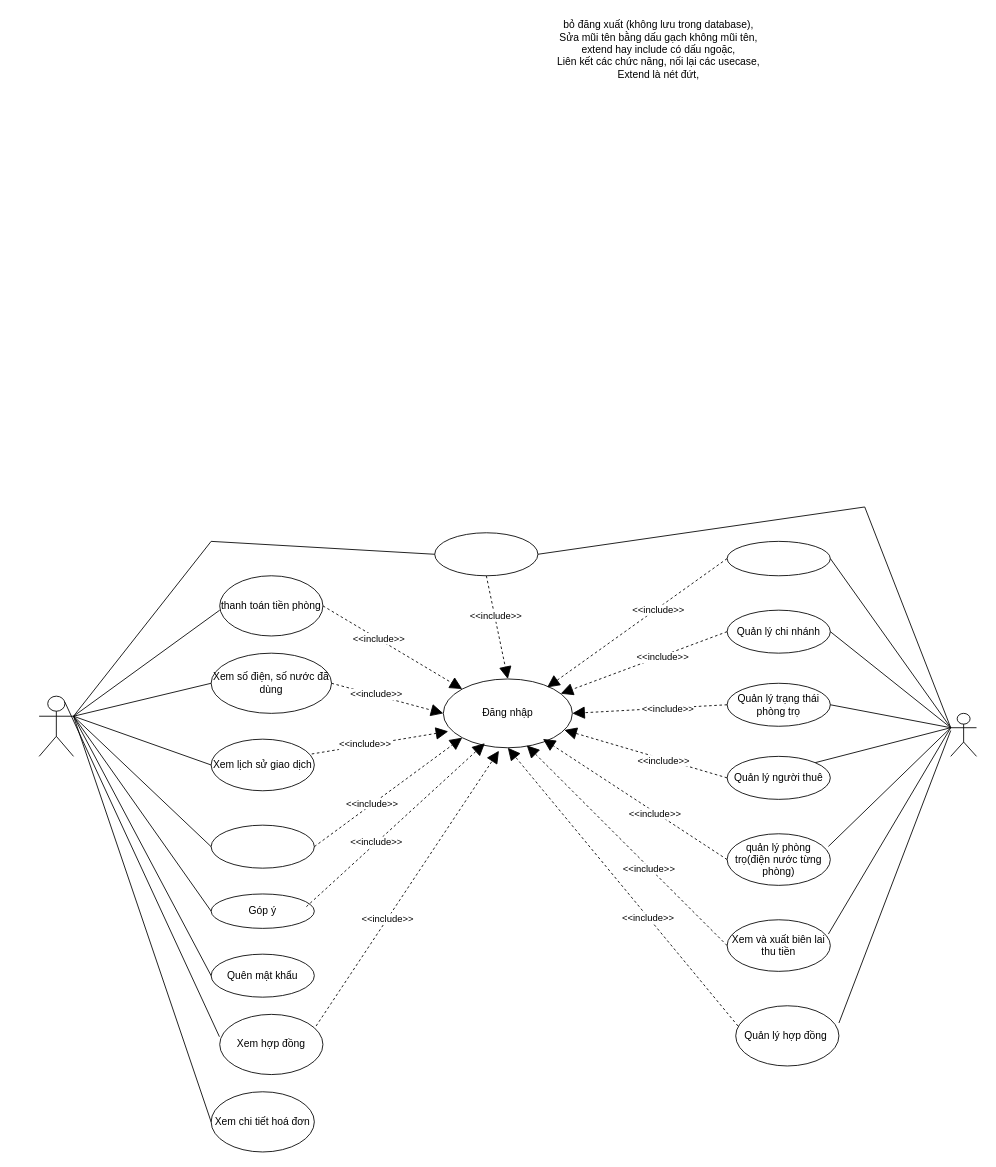
The diagram is 996 pixels wide and 1167 high, and some of its shapes have lost their labels. Here are the shapes that lost their labels. From the top down, the centre of each, then its label:
At point (486, 554): "Đổi mật khẩu".
At point (778, 558): "xem góp ý".
At point (56, 725): "Người thuê phòng".
At point (963, 734): "Quản lý".
At point (262, 846): "Nhận thông báo".
